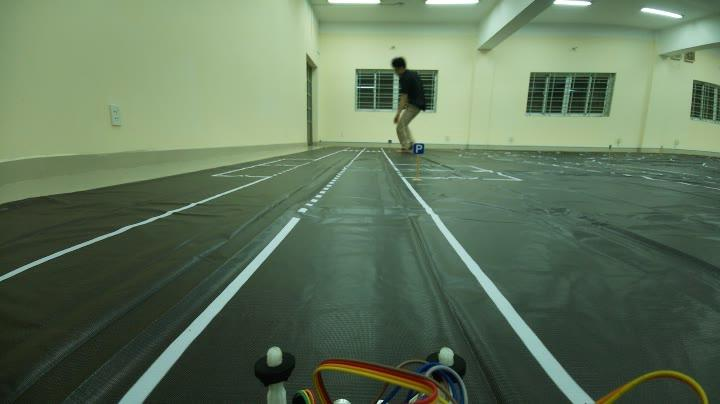parking: (409, 138, 428, 160)
